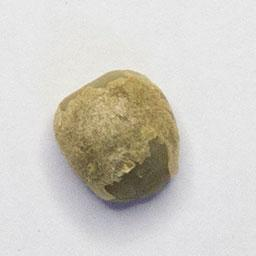premium: (49, 65, 183, 207)
